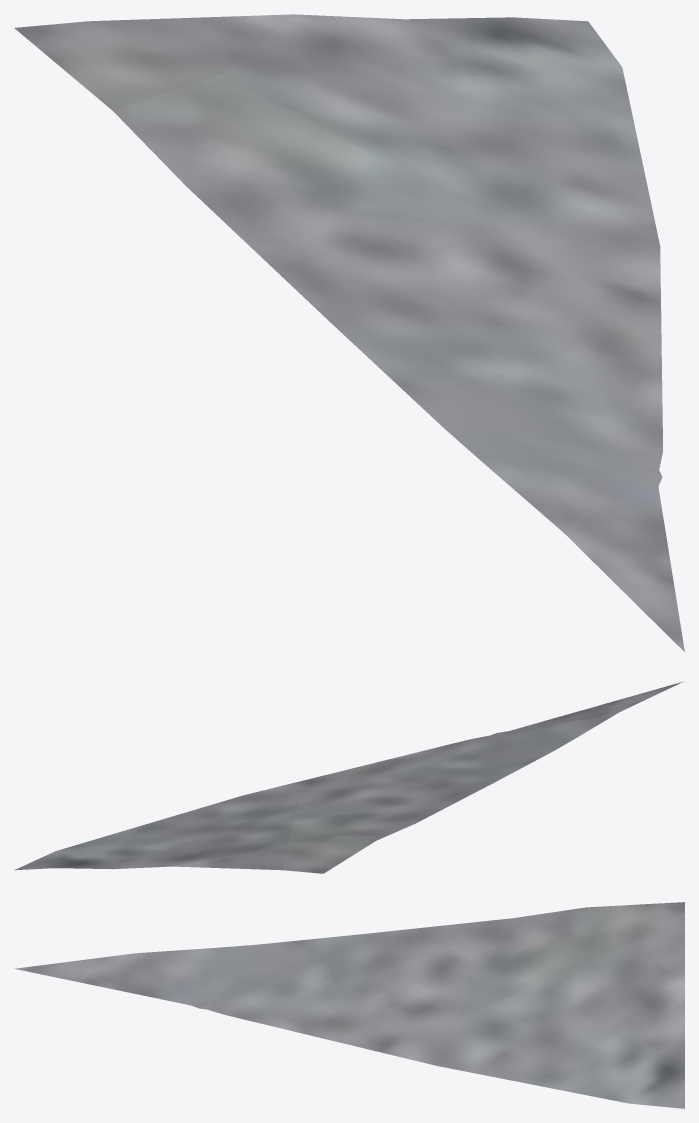
3 views of the same model, one above another, from view 1: azimuth 30°, elevation 25°; view 2: azimuth 150°, elevation 25°; view 3: azimuth 270°, elevation 25° (orthographic). The views are drawn at different scales.
Size of the model in its own units: 0.3065 by 0.0681 by 0.6202.
1 material, 1 textured.
